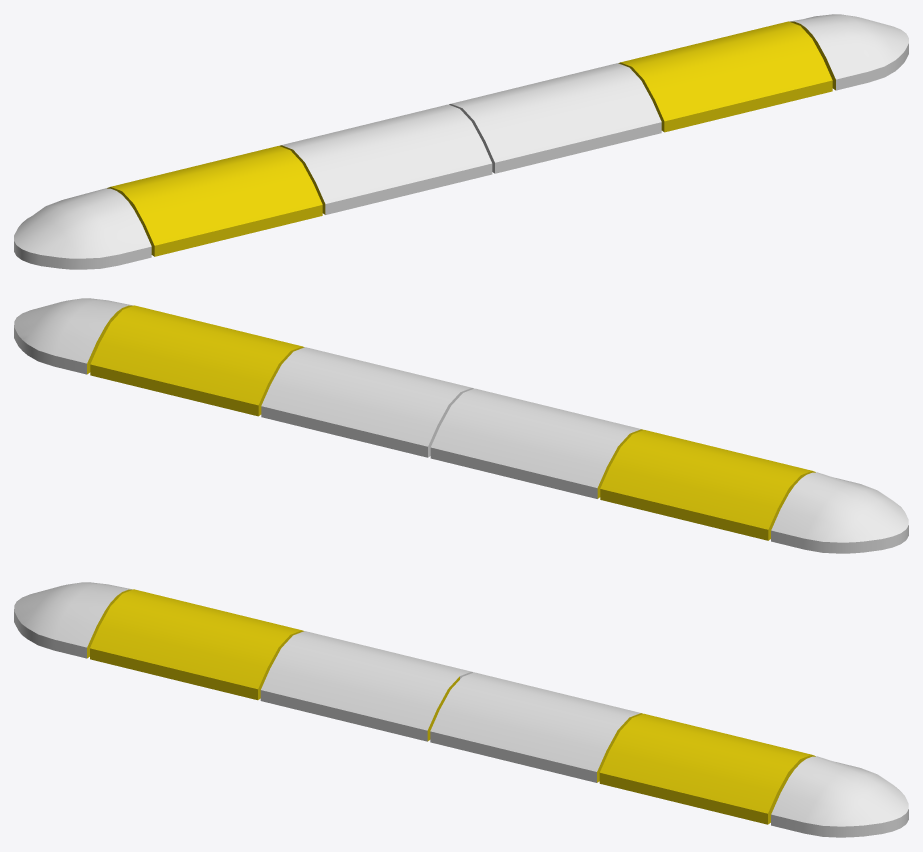
3 renders of one model, top to bottom at view 1: azimuth 30°, elevation 25°; view 2: azimuth 150°, elevation 25°; view 3: azimuth 330°, elevation 25°, orthographic.
Visible parts, largest first — view 1: TRAFFIC_FULL.006; view 2: TRAFFIC_FULL.006; view 3: TRAFFIC_FULL.006.
Boxes of the visible parts, x1,y1,x2,y2 form: TRAFFIC_FULL.006: [14, 14, 908, 269]; TRAFFIC_FULL.006: [14, 298, 908, 553]; TRAFFIC_FULL.006: [14, 582, 908, 837].
Size of the model in its own units: 6.2 by 0.2804 by 0.7856.
